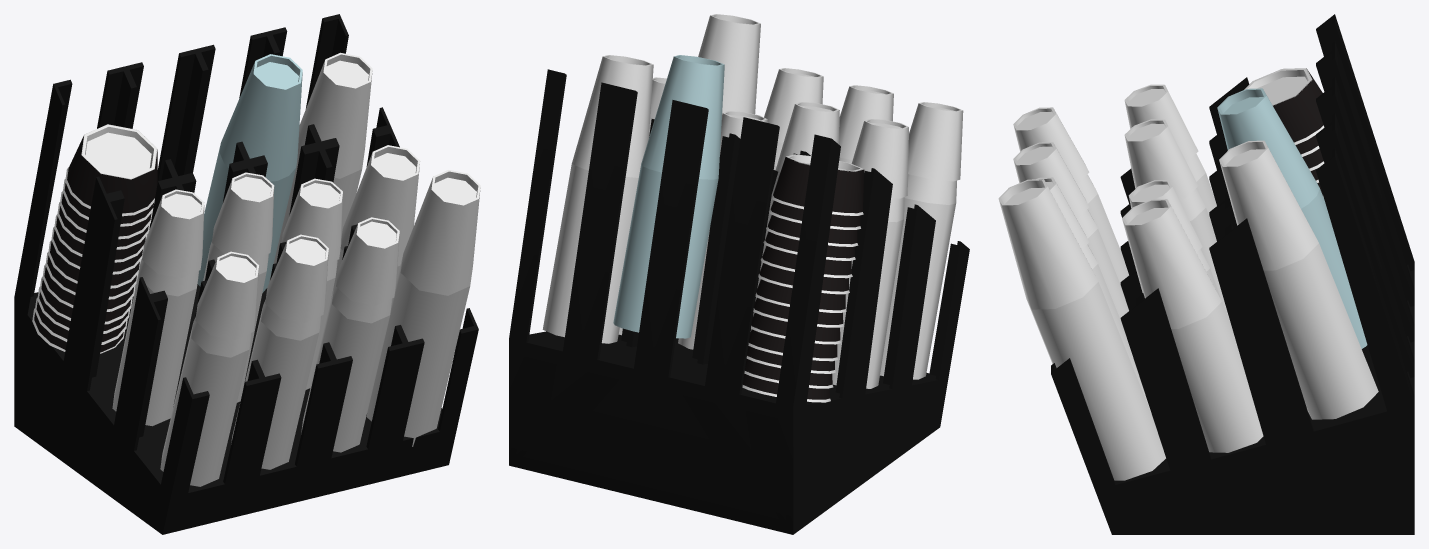
The model's file is LC_3015_CafecupDispenser_LOD1.FBX.
3 views of the same model, side by side, from view 1: azimuth 30°, elevation 25°; view 2: azimuth 150°, elevation 25°; view 3: azimuth 270°, elevation 25° (orthographic). The views are drawn at different scales.
Visible parts, largest first — view 1: LC_3015_CafecupDispenser_LOD1; view 2: LC_3015_CafecupDispenser_LOD1; view 3: LC_3015_CafecupDispenser_LOD1.
Boxes of the visible parts, x1,y1,x2,y2 form: LC_3015_CafecupDispenser_LOD1: [14, 14, 480, 534]; LC_3015_CafecupDispenser_LOD1: [509, 14, 969, 534]; LC_3015_CafecupDispenser_LOD1: [998, 14, 1414, 534].
Bounding box in the file's own units: 30.41 × 37.99 × 36.9.
Materials: 1 (1 with a texture image).
